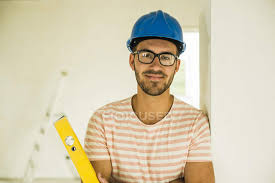Person_wearing_helmet: (122, 5, 189, 65)
